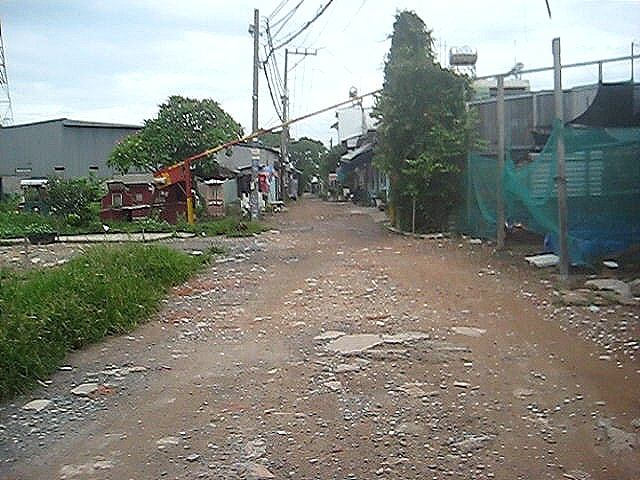hole: (347, 336, 466, 393), (276, 253, 305, 266)
